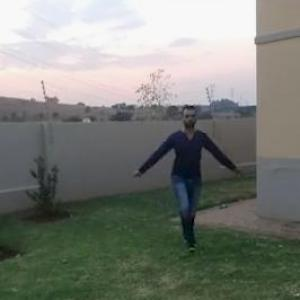land: (124, 102, 234, 241)
